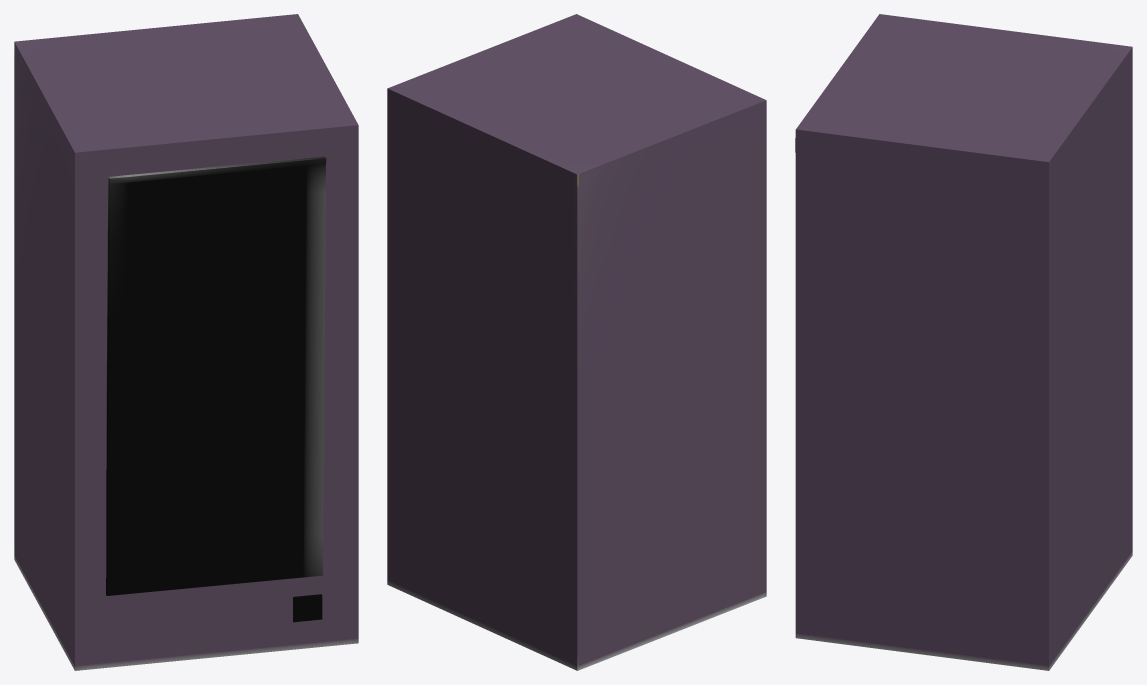
Rendered from speaker exp resend.fbx.
3 views of the same model, side by side, from view 1: azimuth 30°, elevation 25°; view 2: azimuth 150°, elevation 25°; view 3: azimuth 270°, elevation 25° (orthographic). The views are drawn at different scales.
Visible parts, largest first — view 1: Box044; view 2: Box044; view 3: Box044.
Boxes of the visible parts, <box> form: Box044: <box>14,14,358,670</box>; Box044: <box>387,14,766,670</box>; Box044: <box>795,14,1132,670</box>.
Bounding box in the file's own units: 2.06 × 3.29 × 1.98.
